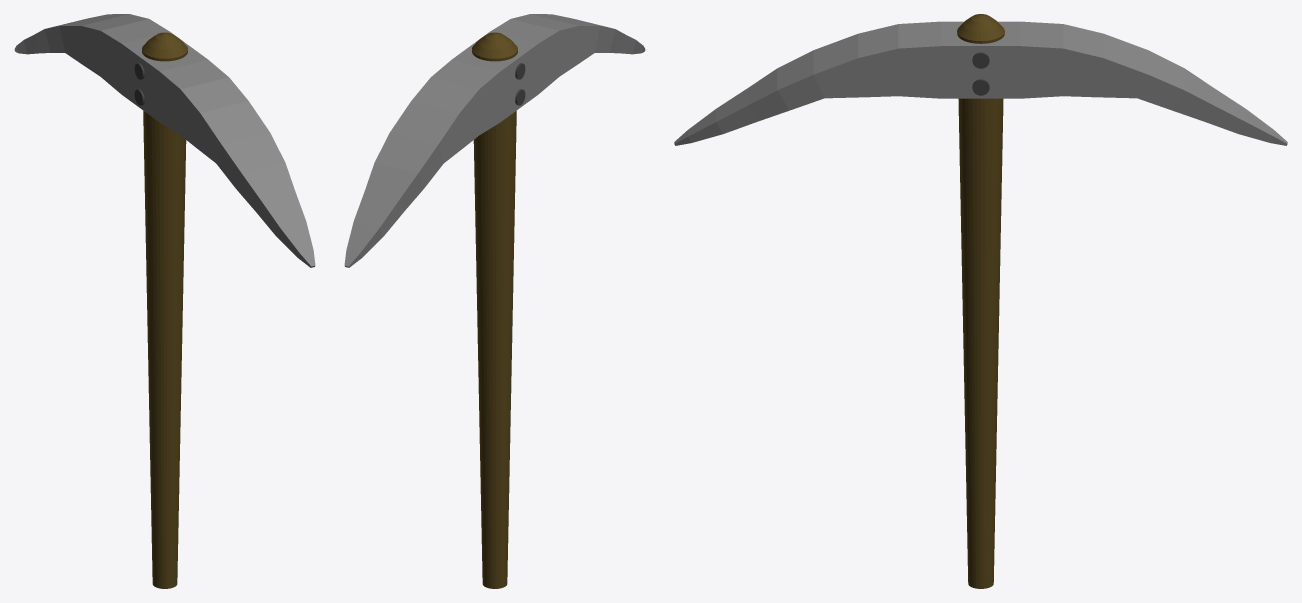
Rendered from Pickaxe.fbx.
The picture shows the model from 3 angles, left to right: view 1: azimuth 30°, elevation 25°; view 2: azimuth 150°, elevation 25°; view 3: azimuth 270°, elevation 25°; orthographic projection. The views are drawn at different scales.
Parts seen in each view (by area): view 1: Cube, Cylinder; view 2: Cube, Cylinder; view 3: Cube, Cylinder.
Part boxes in pixels (x1=…): Cube: x1=14, y1=14, x2=315, y2=267; Cylinder: x1=142, y1=32, x2=187, y2=588; Cube: x1=344, y1=14, x2=645, y2=267; Cylinder: x1=472, y1=32, x2=517, y2=588; Cube: x1=674, y1=21, x2=1287, y2=145; Cylinder: x1=957, y1=14, x2=1004, y2=588.
Bounding box in the file's own units: 216 × 2158 × 2112.
